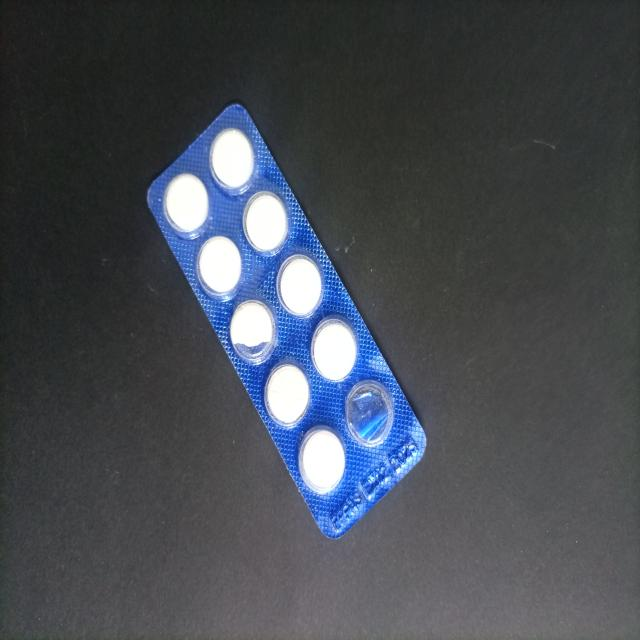defect: (344, 378, 395, 448), (229, 297, 279, 366)
